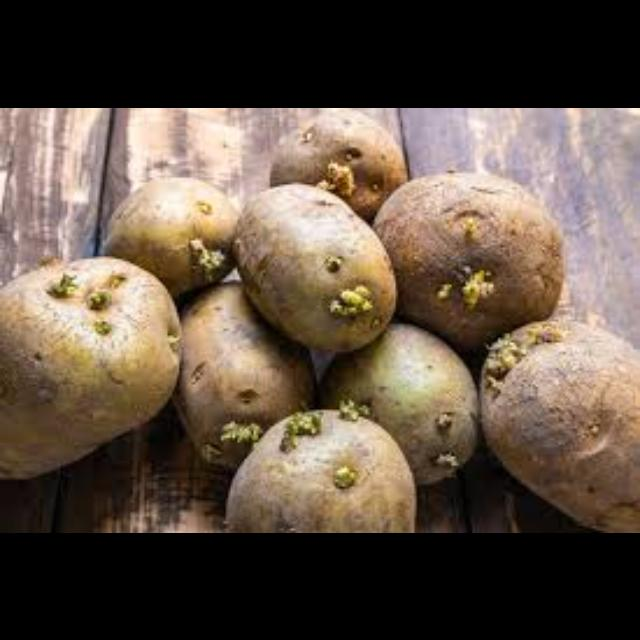Sprouted potato: (2, 255, 188, 508), (378, 171, 582, 355), (480, 319, 640, 533), (233, 180, 403, 354), (224, 399, 423, 533), (333, 321, 482, 491), (103, 173, 244, 295), (274, 110, 412, 220)
